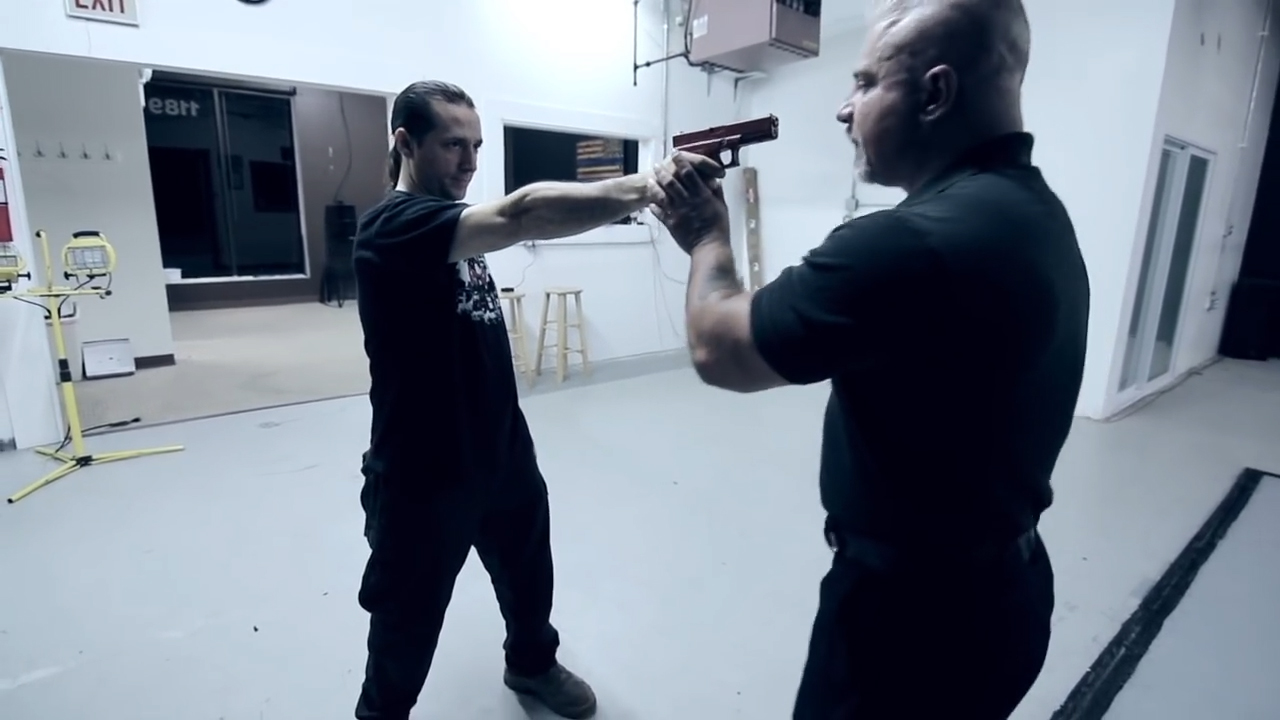pistol: (671, 111, 780, 173)
